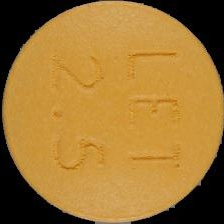60505-3255: (0, 0, 224, 224)
